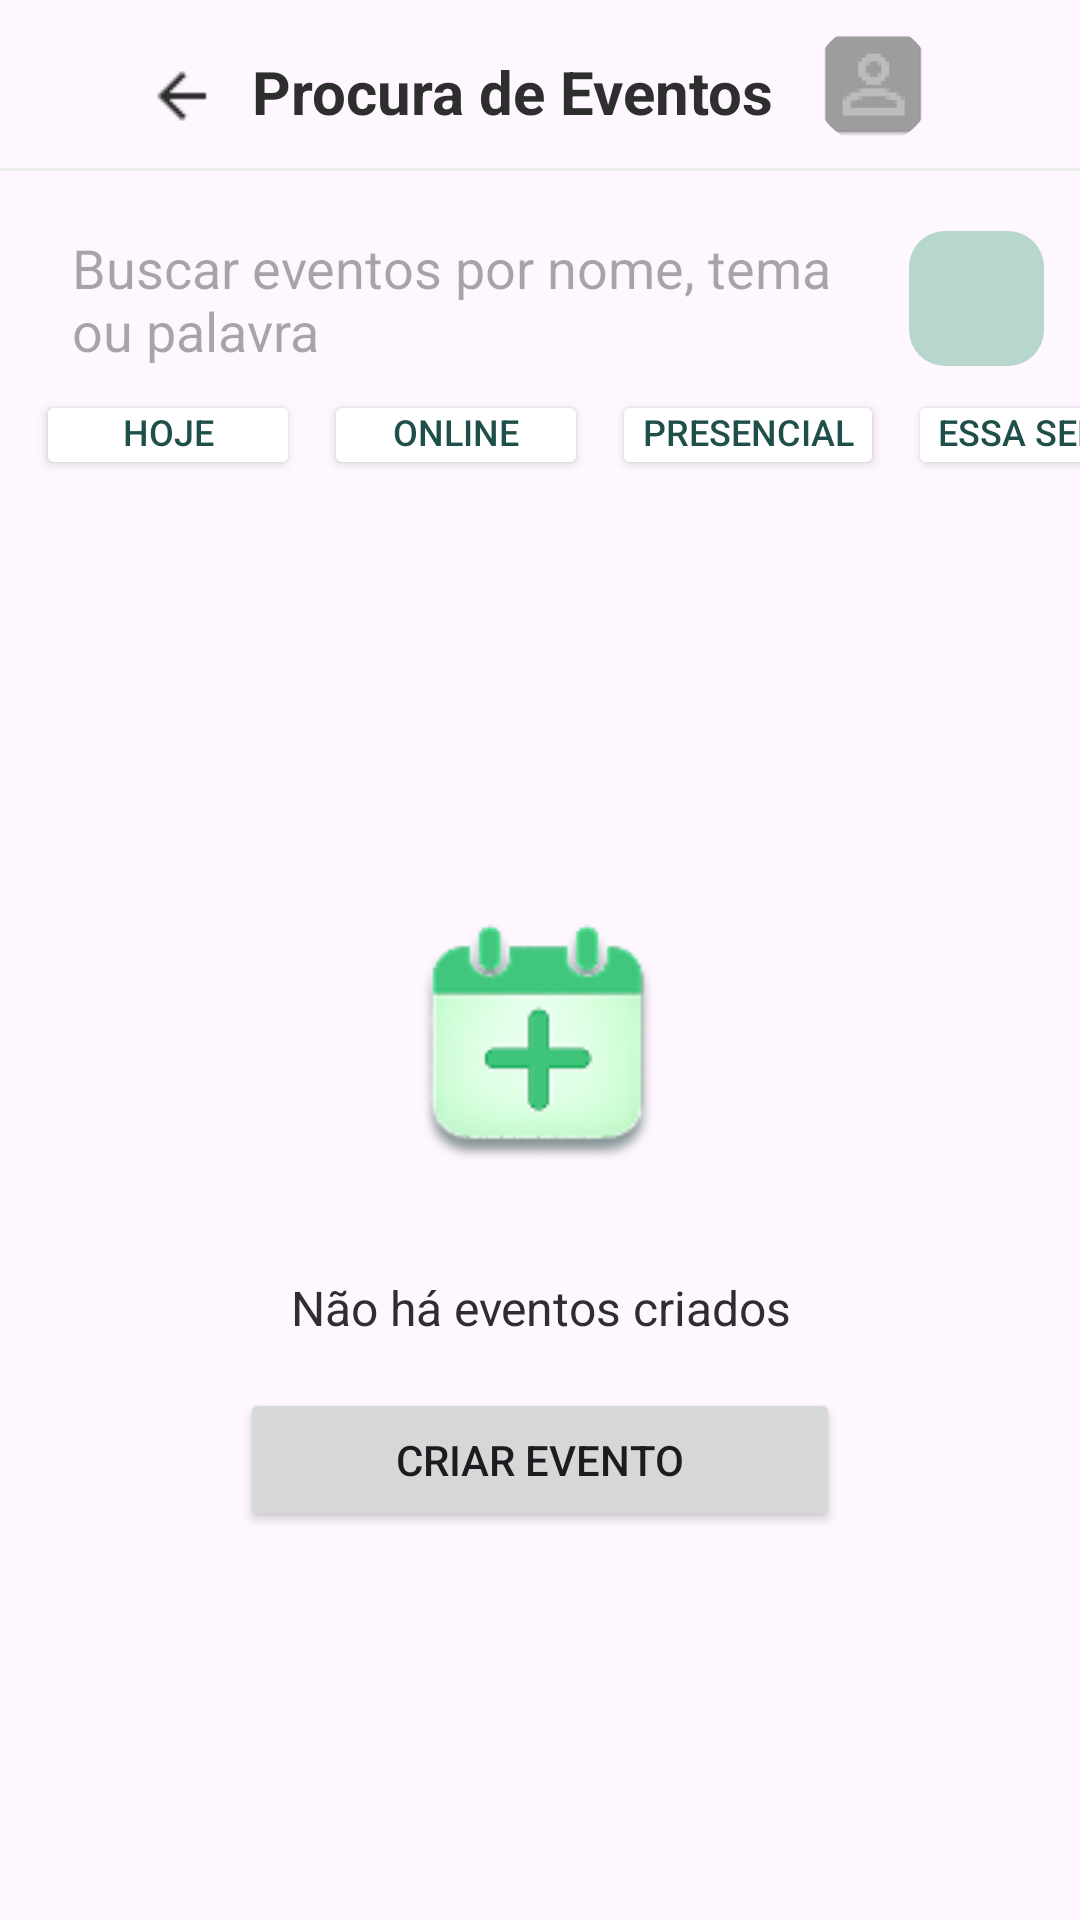

Locate icon controls on the screen. Image size 1080w x 1920h, boxes as (x1, y1, x2, y2).
calendariomais: (428, 926, 647, 1155)
Voltar: (157, 71, 207, 121)
